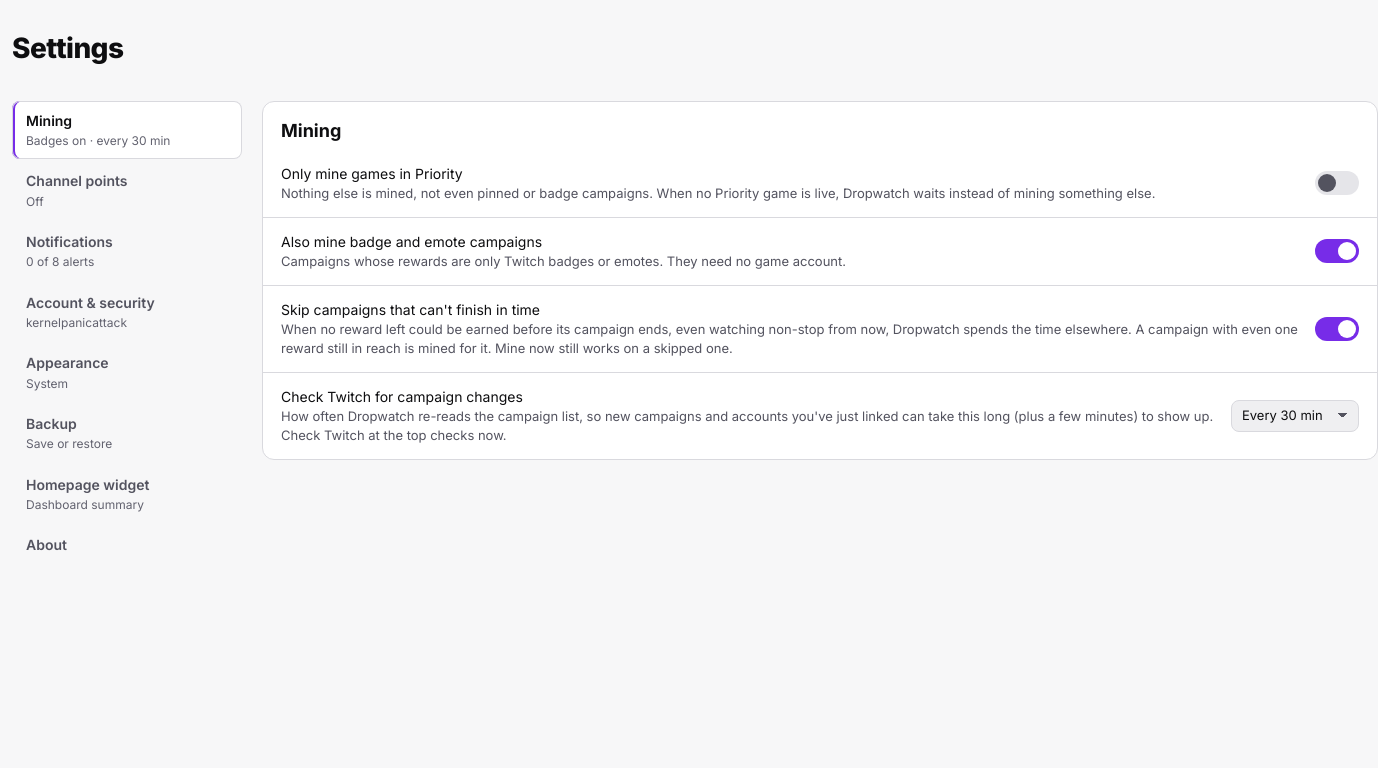
Test: Settings › Mining has the switch first, and the summary leads with Priority only
The image size is (1378, 768).
What coordinates should you click on to do the following:
click the checkbox labelled "Only mine games in Priority"
I would click on:
 (1337, 183)
Its box is x1=1315 y1=171 x2=1359 y2=195.
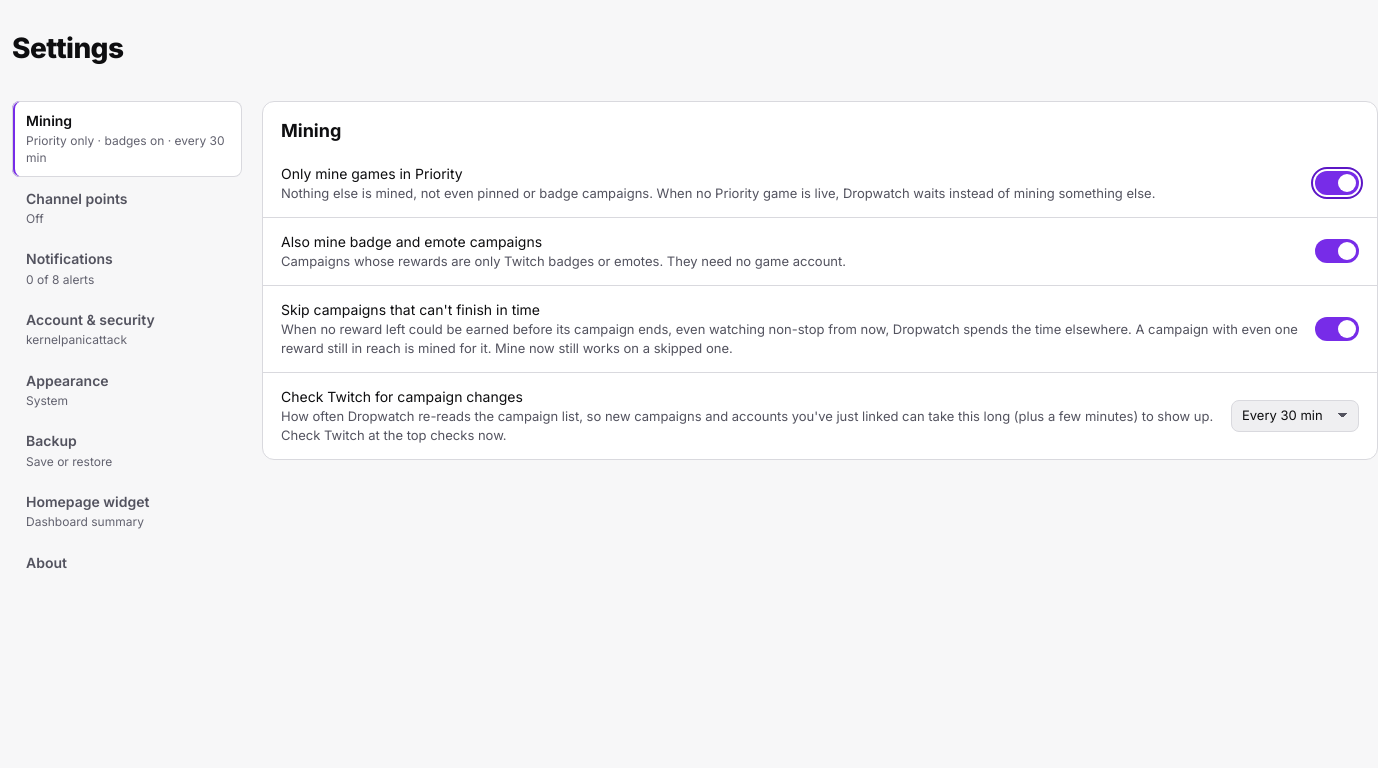
Expected: the link "Mining Priority only · badges on · every 30 min" is shown, x1=12 y1=101 x2=242 y2=177
